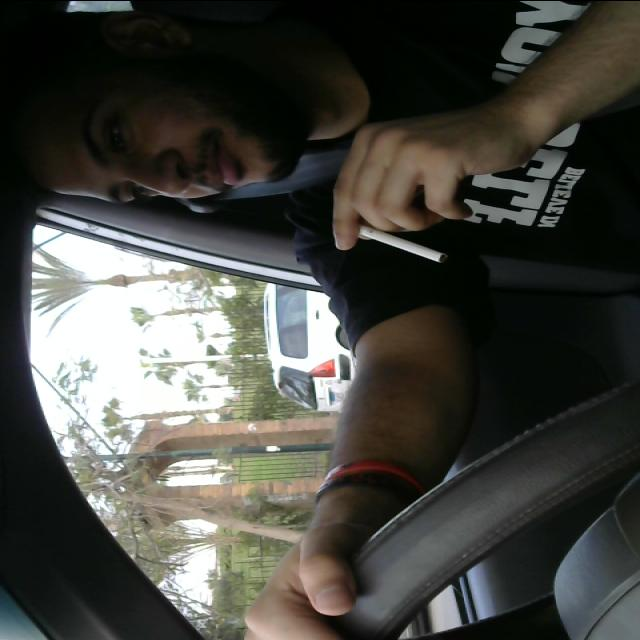smoking: (329, 203, 456, 267)
